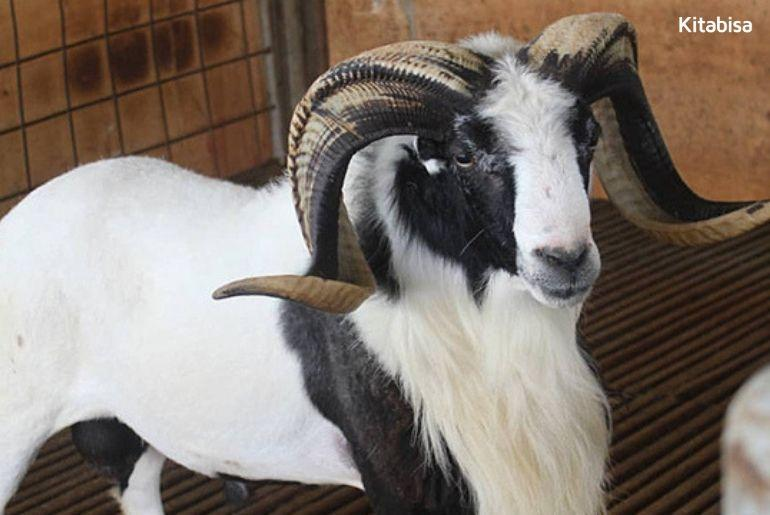Sheep: (203, 13, 746, 371)
